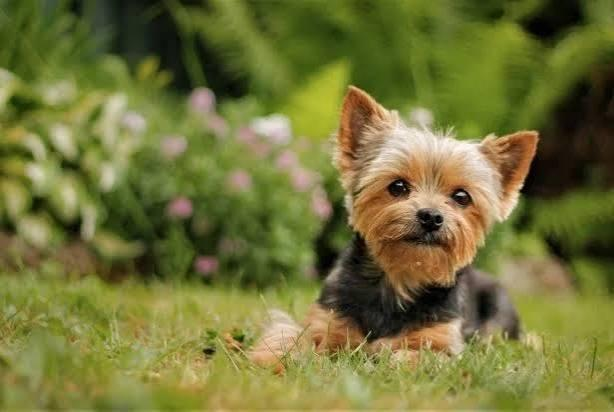adult_dog: (242, 85, 542, 368)
